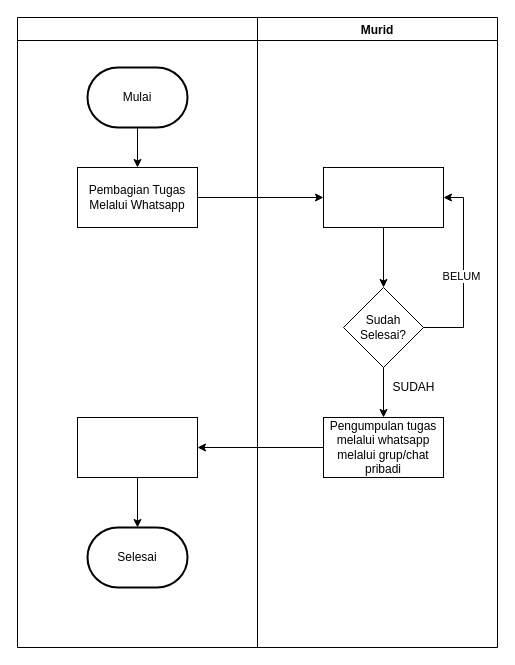
The diagram is 515 pixels wide and 665 high, and some of its shapes have lost their labels. Here are the shapes that lost their labels. From the top down, the box of each, then its label:
(322, 166, 444, 228): Pengerjaan Tugas
(16, 16, 258, 648): Guru
(76, 416, 198, 478): Penilaian tugas siswa
